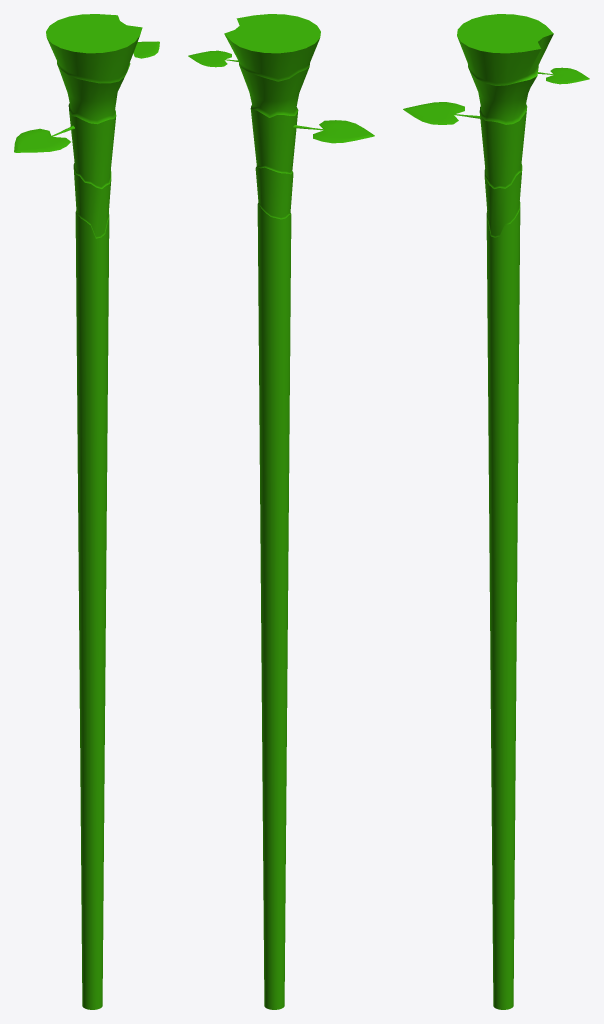
File: TStand.fbx
The picture shows the model from 3 angles, left to right: view 1: azimuth 30°, elevation 25°; view 2: azimuth 150°, elevation 25°; view 3: azimuth 330°, elevation 25°; orthographic projection.
Visible parts, largest first — view 1: tStand, tStandLeaf, tStandLeaf1; view 2: tStand, tStandLeaf, tStandLeaf1; view 3: tStand, tStandLeaf, tStandLeaf1.
Boxes of the visible parts, x1,y1,x2,y2 form: tStand: [46, 14, 142, 1009]; tStandLeaf: [14, 125, 74, 152]; tStandLeaf1: [133, 41, 159, 58]; tStand: [224, 14, 320, 1009]; tStandLeaf: [293, 120, 374, 143]; tStandLeaf1: [188, 50, 238, 67]; tStand: [457, 14, 553, 1009]; tStandLeaf: [403, 102, 480, 124]; tStandLeaf1: [538, 67, 589, 84].
Size of the model in its own units: 7.21 by 40.39 by 3.52.
